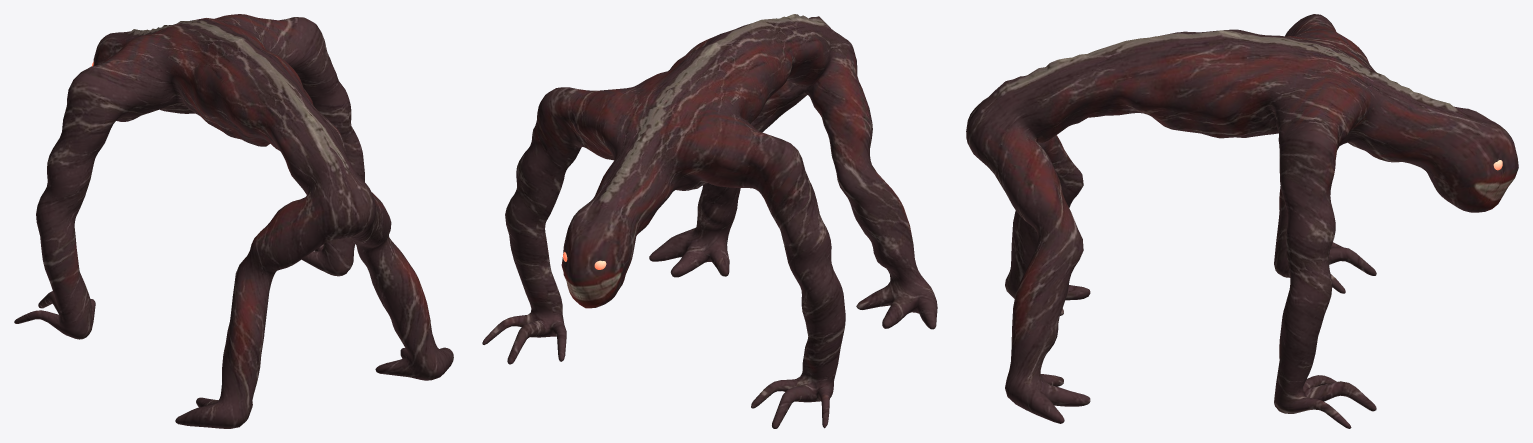
The model's file is curvo.glb.
3 renders of one model, left to right at view 1: azimuth 30°, elevation 25°; view 2: azimuth 150°, elevation 25°; view 3: azimuth 270°, elevation 25°, orthographic. The views are drawn at different scales.
Visible parts, largest first — view 1: Monster_Body_0; view 2: Monster_Body_0; view 3: Monster_Body_0.
Boxes of the visible parts, x1,y1,x2,y2 form: Monster_Body_0: (14, 14, 453, 428); Monster_Body_0: (482, 14, 937, 428); Monster_Body_0: (966, 14, 1518, 428).
Size of the model in its own units: 3.3 by 2.83 by 4.4.
2 materials, 1 textured.
